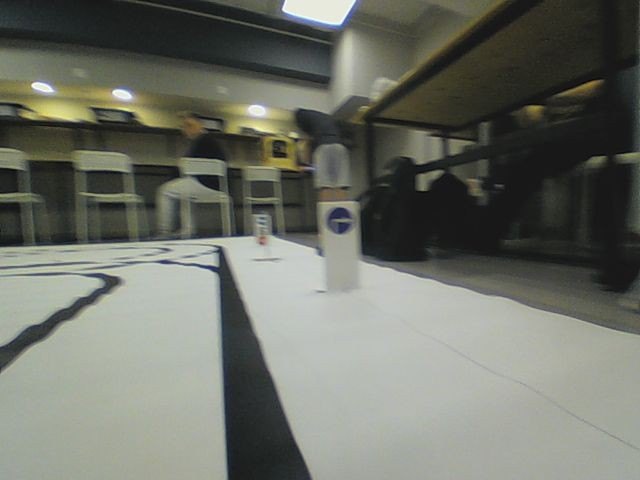Right: (324, 206, 355, 236)
